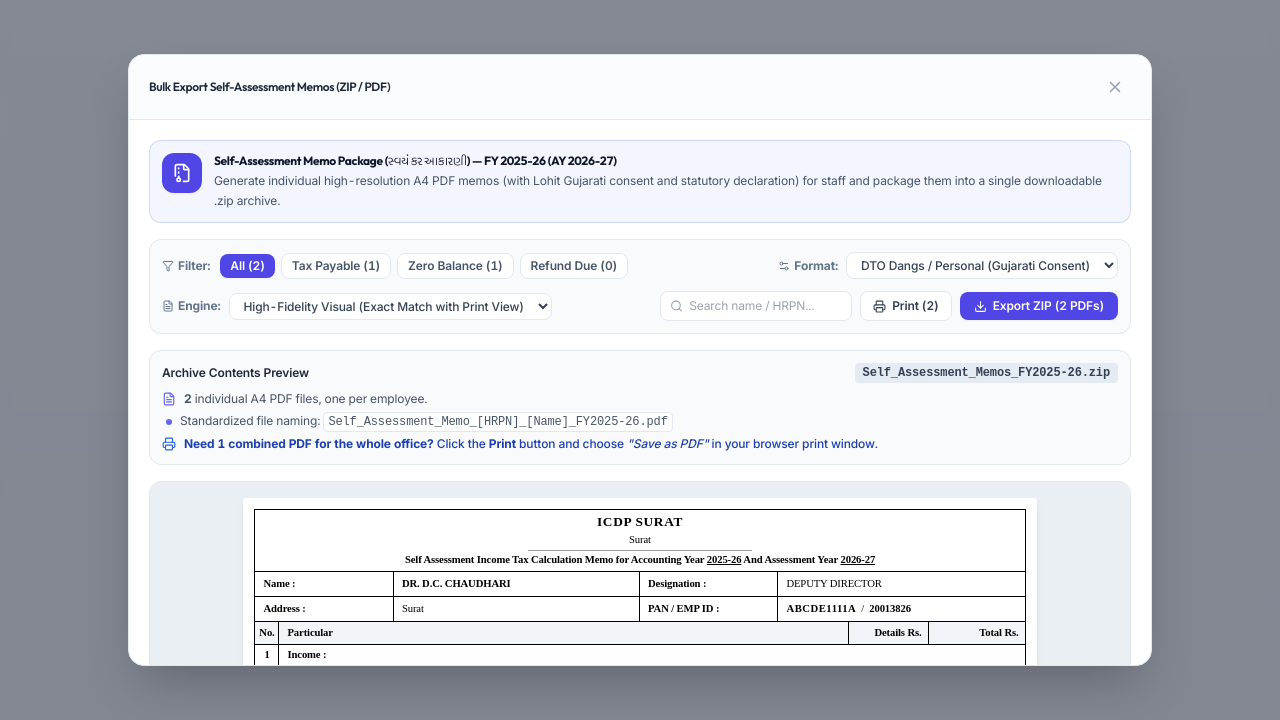
Test: BulkSelfAssessmentModal › filters memos by tax category
This screenshot has width=1280, height=720.
Click the button "Tax Payable (1)" at (336, 266), box [281,252,391,278]
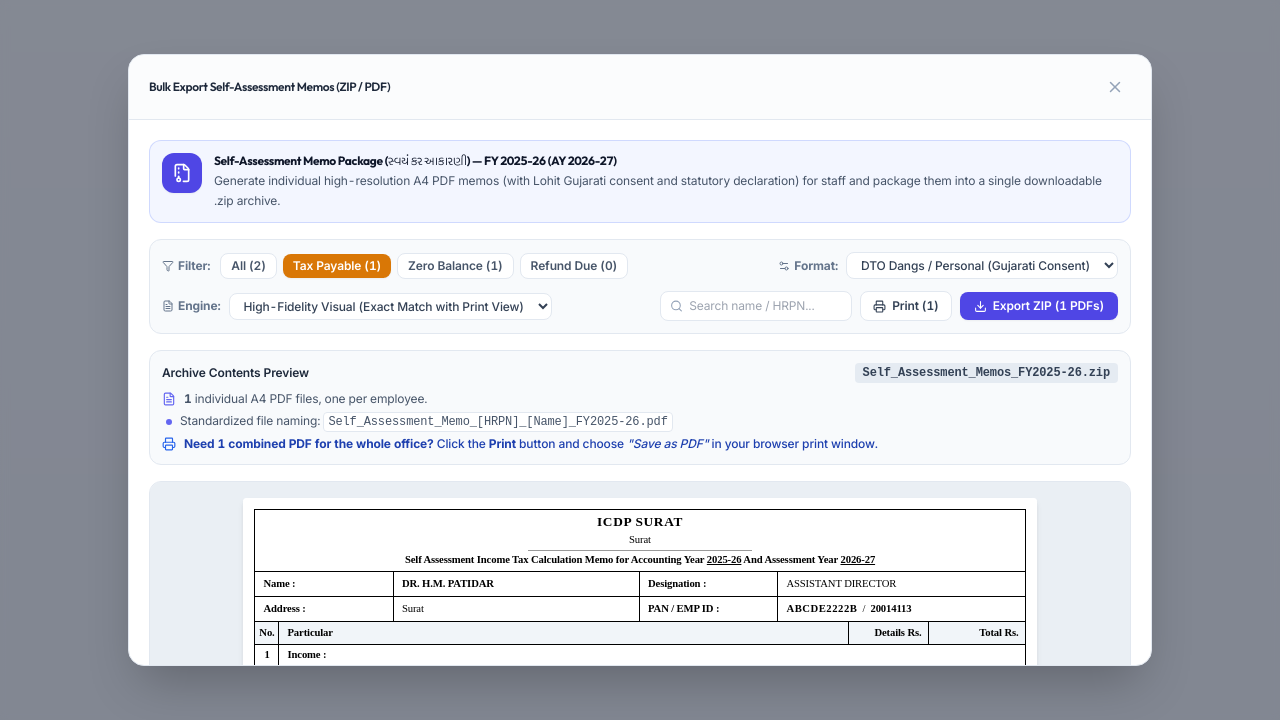
Check: the button "Export ZIP (1 PDFs)" is shown, box [960,292,1118,320]
Click the button "All (2)" at (249, 266), box [220,252,277,278]
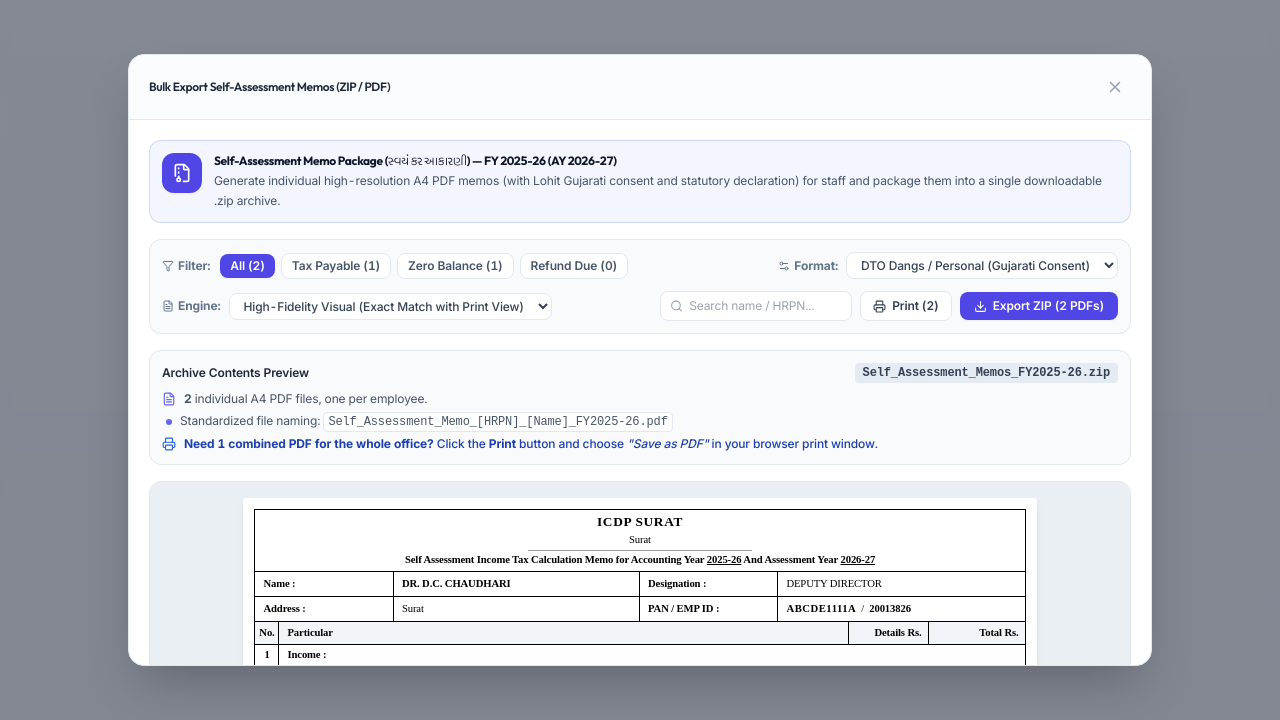
Check: the button "Export ZIP (2 PDFs)" is shown, box [960,292,1118,320]
